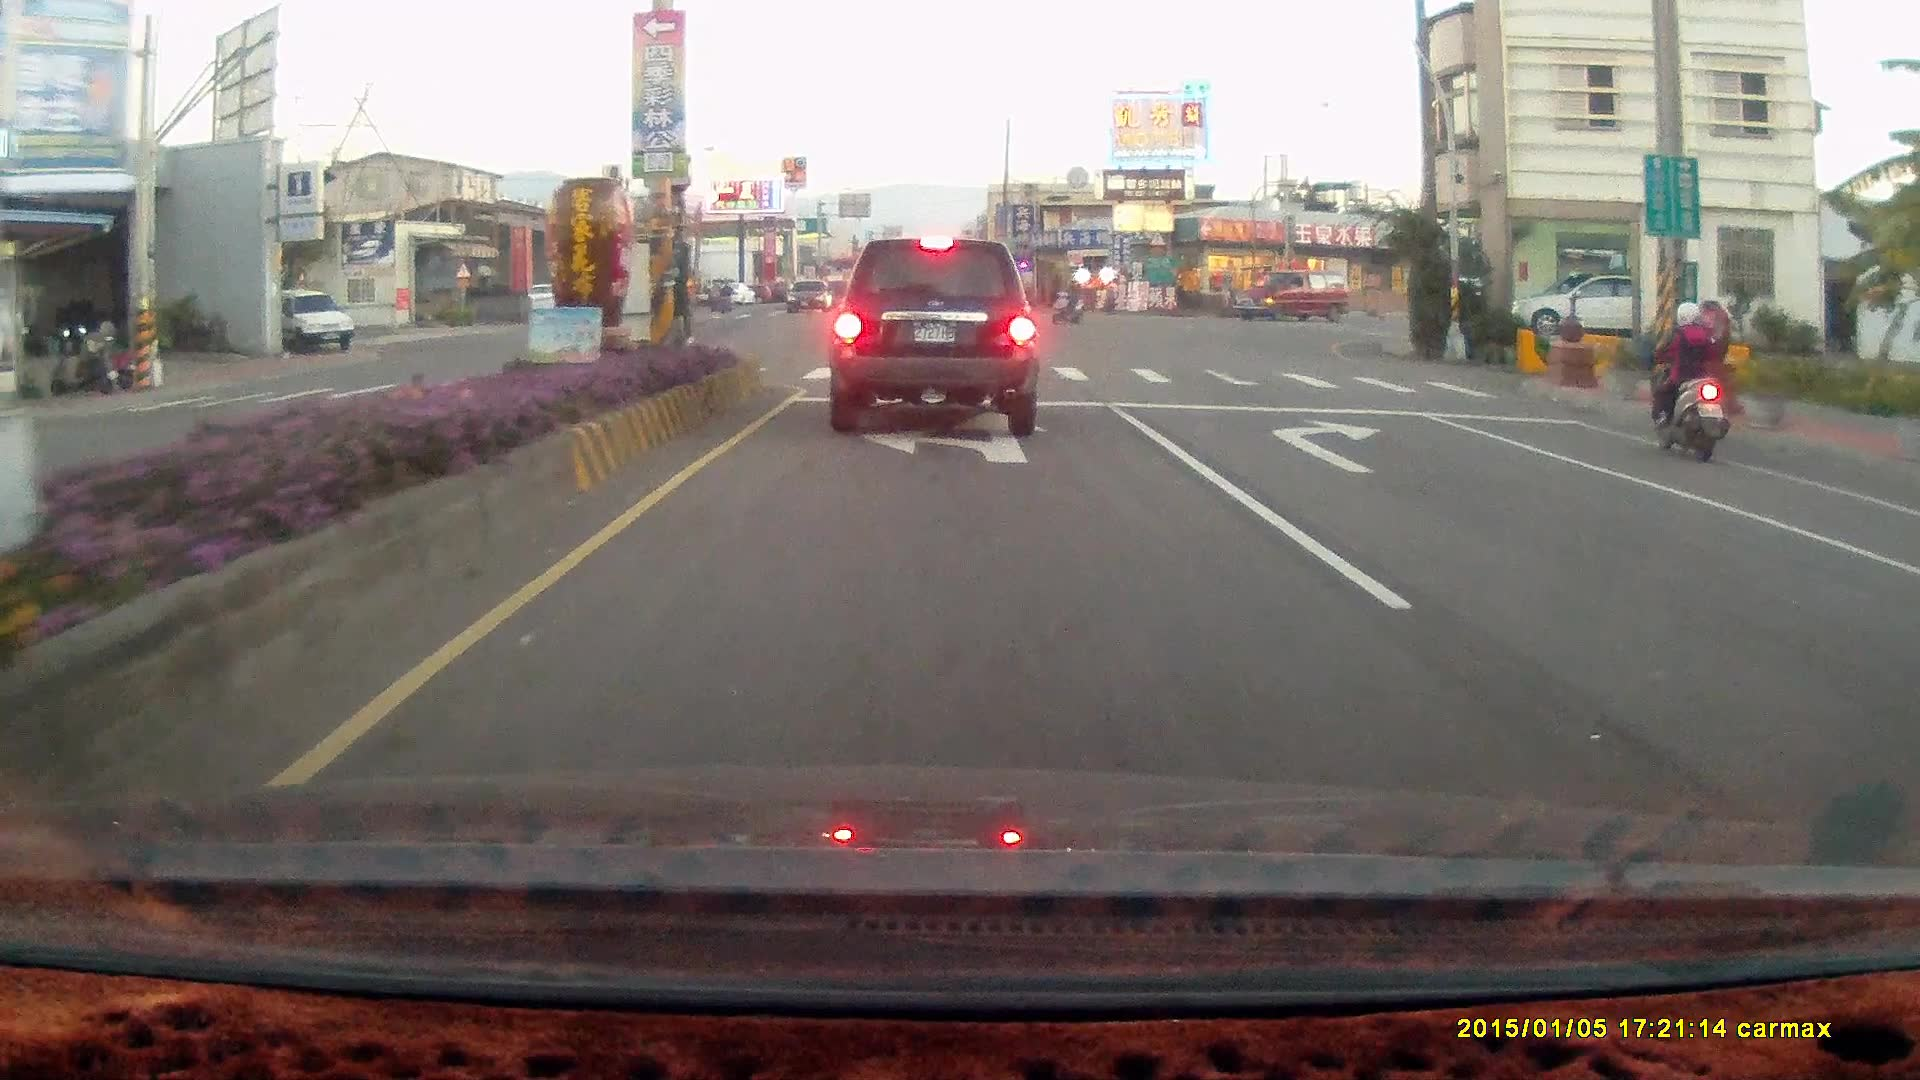rider: (1649, 297, 1728, 462), (1048, 273, 1085, 328)
vehicle: (827, 236, 1041, 435), (1508, 268, 1679, 337), (1896, 493, 1920, 836), (1525, 274, 1649, 337), (261, 285, 357, 351), (1236, 268, 1353, 320), (1883, 528, 1920, 690), (1232, 269, 1348, 321)
